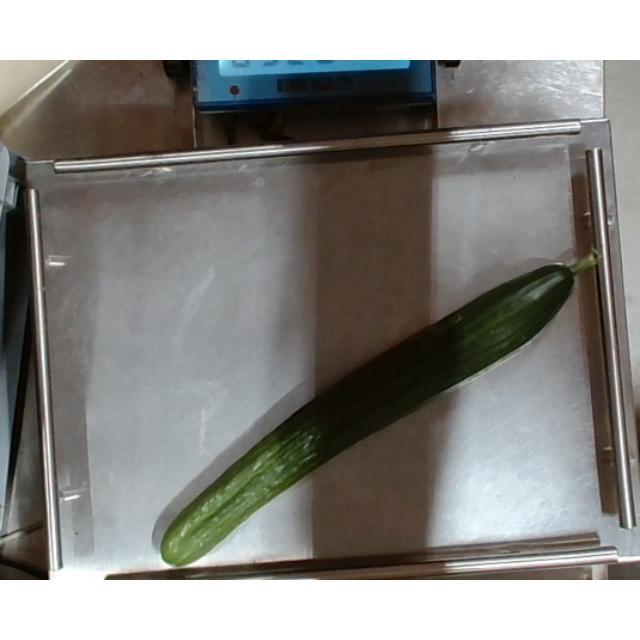cucumber: (160, 241, 598, 569)
